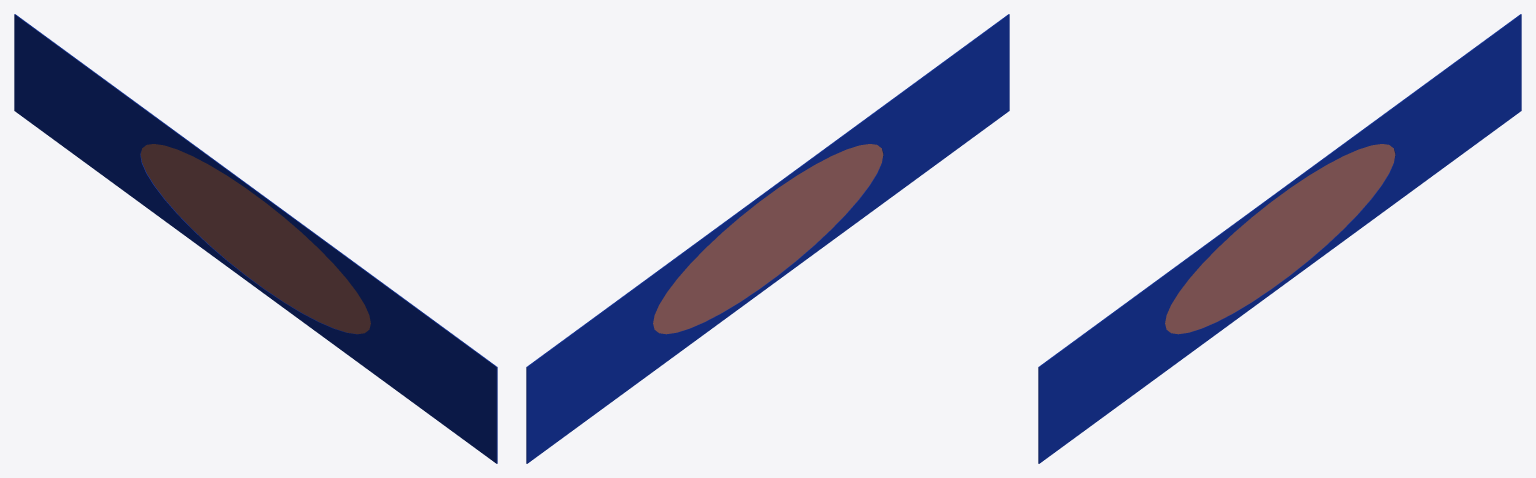
File: 10x90 the big oval.FBX
3 views of the same model, side by side, from view 1: azimuth 30°, elevation 25°; view 2: azimuth 150°, elevation 25°; view 3: azimuth 330°, elevation 25° (orthographic).
Parts seen in each view (by area): view 1: Med Wall Large oval Window002; view 2: Med Wall Large oval Window002; view 3: Med Wall Large oval Window002.
Boxes of the visible parts, x1,y1,x2,y2 form: Med Wall Large oval Window002: [14, 14, 497, 463]; Med Wall Large oval Window002: [526, 14, 1009, 463]; Med Wall Large oval Window002: [1038, 14, 1521, 463].
Size of the model in its own units: 0.1 by 10 by 90.49.
